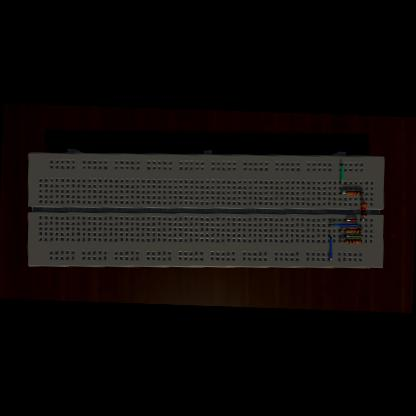breadboard: (25, 141, 387, 278)
resistor: (346, 228, 362, 234), (361, 203, 367, 217), (346, 191, 362, 196), (345, 240, 361, 245)
wire: (327, 236, 332, 261), (339, 164, 344, 183), (329, 224, 358, 227), (344, 234, 362, 238), (343, 219, 358, 221), (360, 199, 364, 202), (360, 218, 364, 221), (339, 193, 346, 194), (339, 230, 346, 231), (339, 241, 345, 242), (360, 241, 362, 242), (362, 230, 363, 231)
